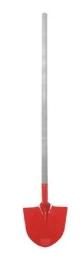PELLE: (22, 9, 82, 261)
